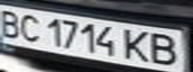1: (75, 20, 100, 54), (39, 16, 63, 47)
4: (93, 24, 118, 57)
7: (57, 18, 81, 51)
B: (145, 30, 187, 68), (0, 7, 24, 38)
C: (15, 11, 45, 43)
K: (118, 28, 154, 63)
